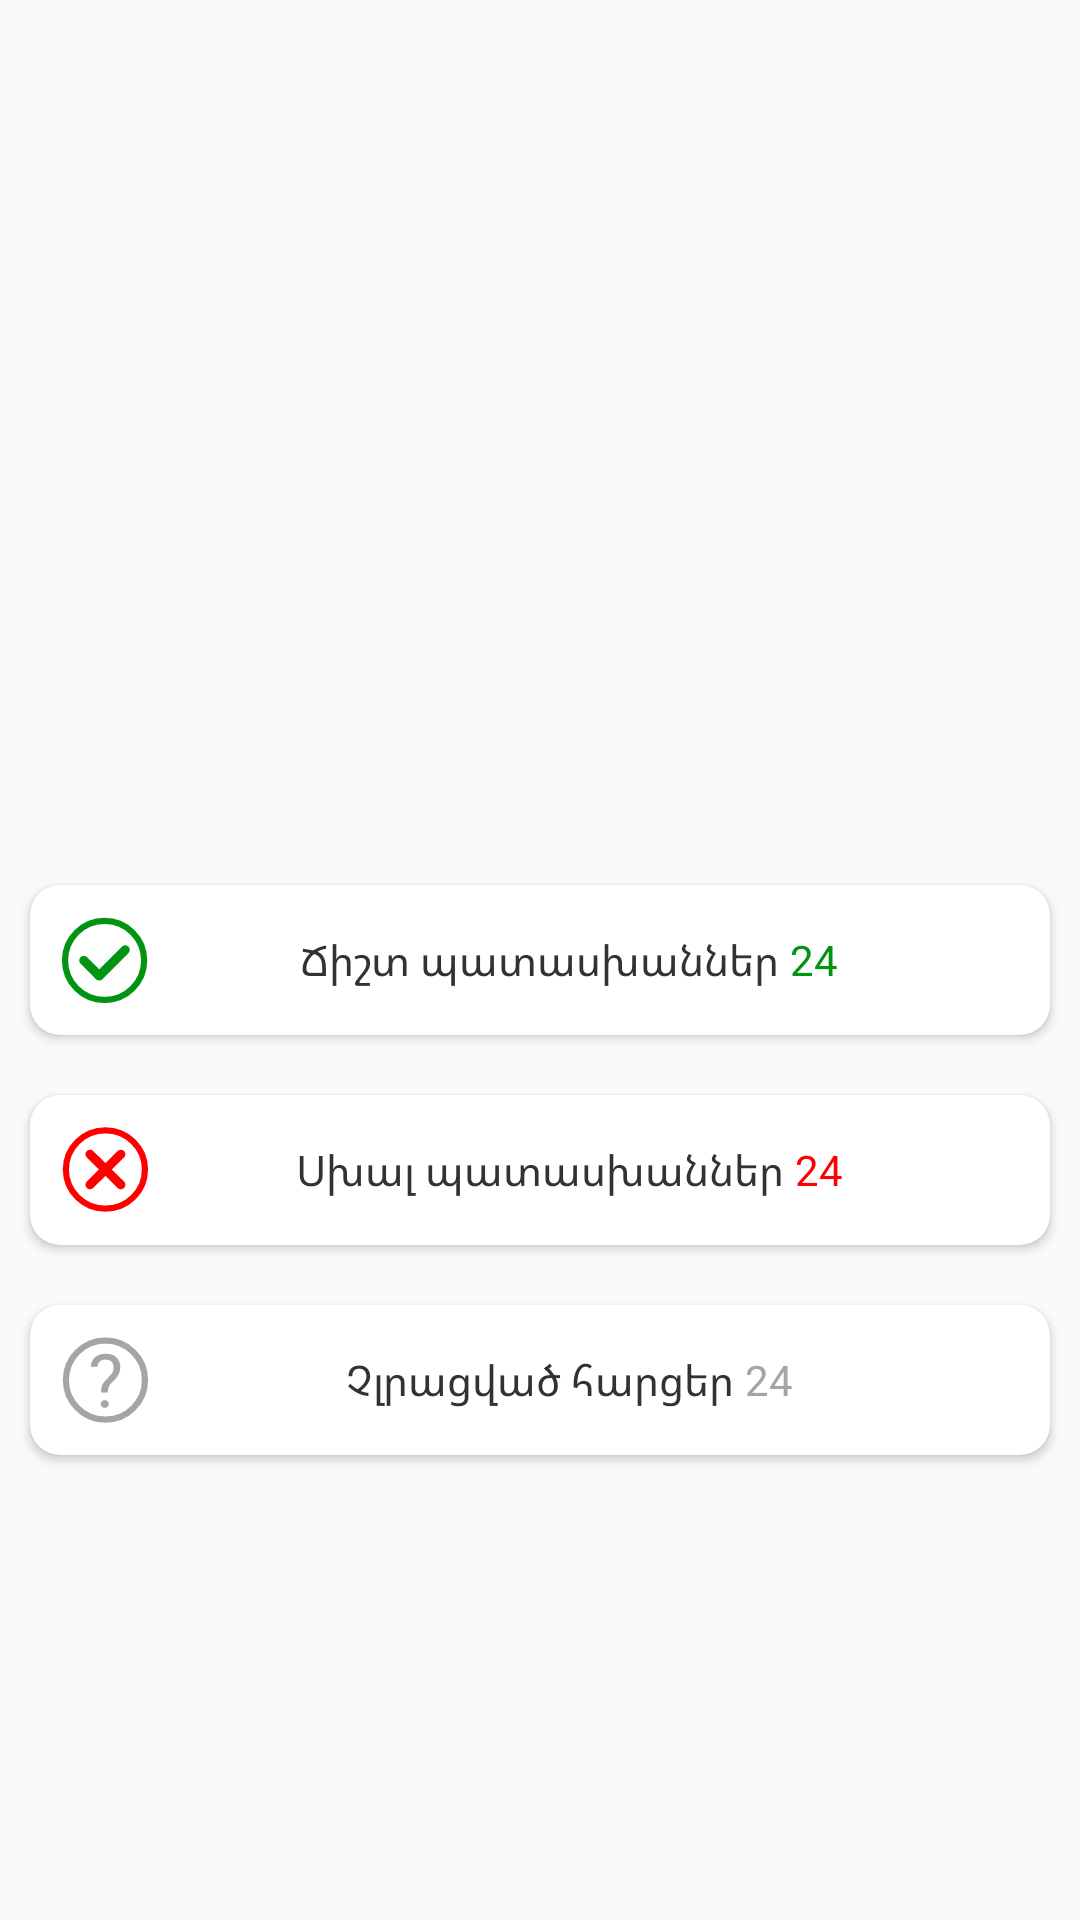

Where to tap for icons on this 1080px x 1920px app screen, as (x,y):
correct answer circle progress: (105,960)
not aswered circle progress: (105,1380)
wrong answer circle progress: (105,1169)
